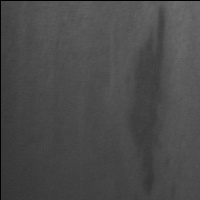inclusion: (124, 3, 168, 198)
